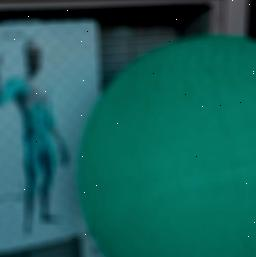algae: (70, 29, 256, 257)
